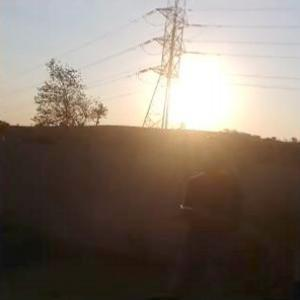follow: (172, 132, 246, 299)
